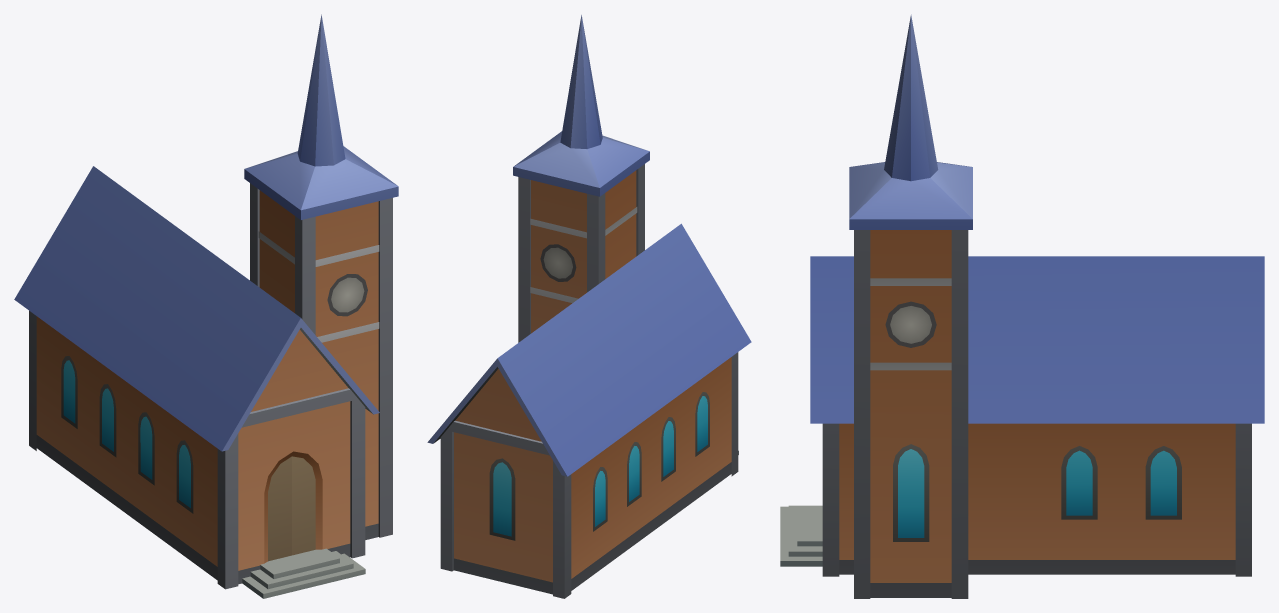
Rendered from Church.fbx.
3 renders of one model, left to right at view 1: azimuth 30°, elevation 25°; view 2: azimuth 150°, elevation 25°; view 3: azimuth 270°, elevation 25°, orthographic. The views are drawn at different scales.
Visible parts, largest first — view 1: Church; view 2: Church; view 3: Church.
Part boxes in pixels (x1,y1,x2,y2): Church: [14, 14, 398, 598]; Church: [427, 15, 751, 598]; Church: [780, 14, 1264, 598].
Bounding box in the file's own units: 584 × 1469 × 1150.
